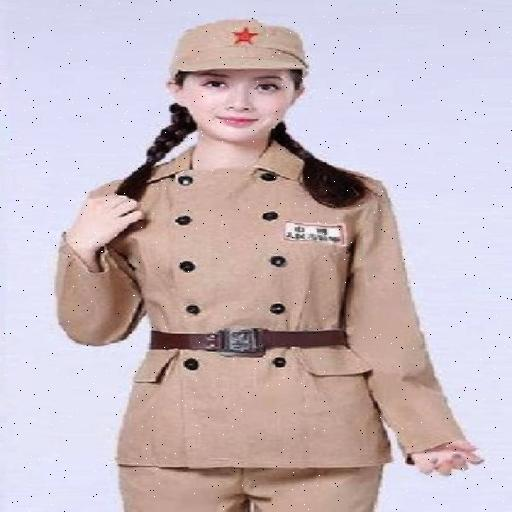north army: (55, 21, 489, 508)
